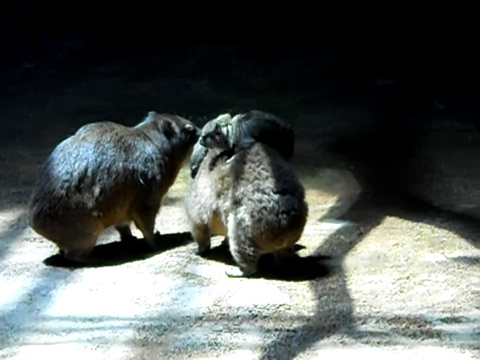Rock Hyrex: (27, 112, 205, 257), (195, 144, 309, 282)
